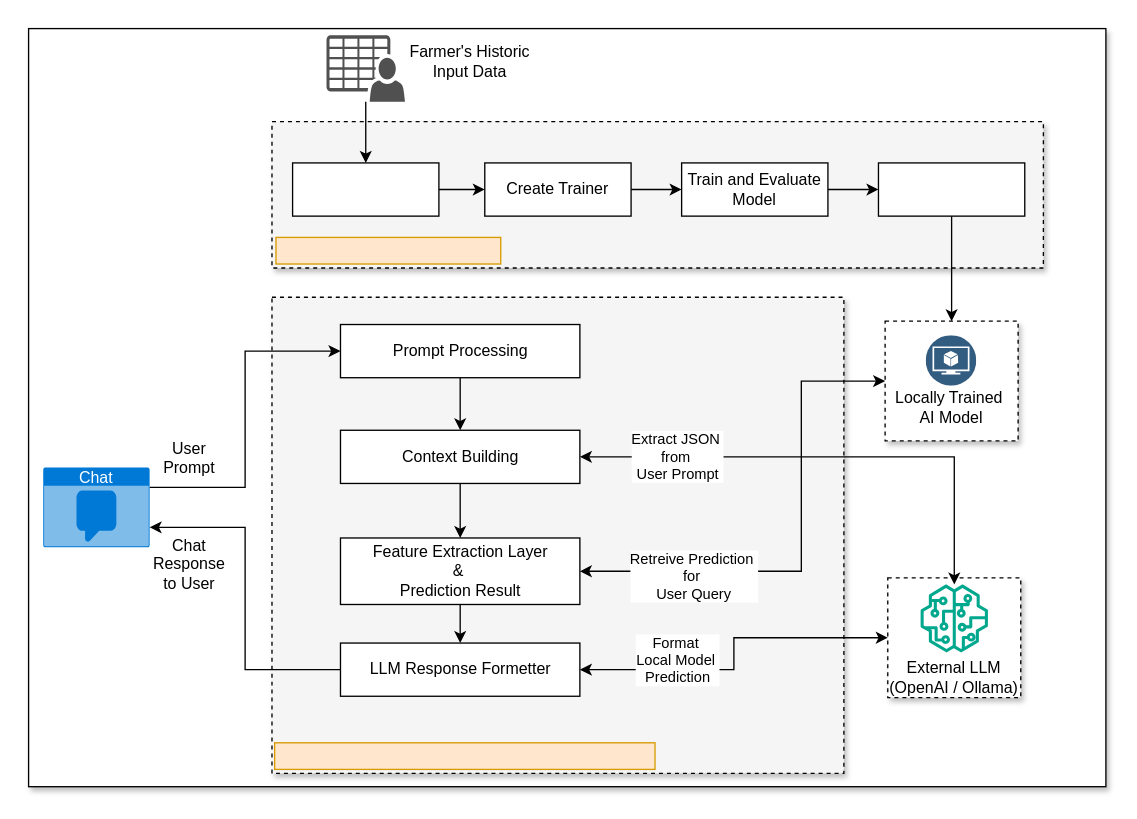
This 1137x819 diagram has some shape labels left out. The shapes that lost their labels are listed below. From the top down, each one's centre as x and y in pixels, then its label:
At pixel 365 189: "Load CSV Data".
At pixel 951 189: "Save Model".
At pixel 388 250: "JAVA, Tribuo ML Library".
At pixel 464 755: "SpringBoot, Spring AI, Tribuo ML Library".
